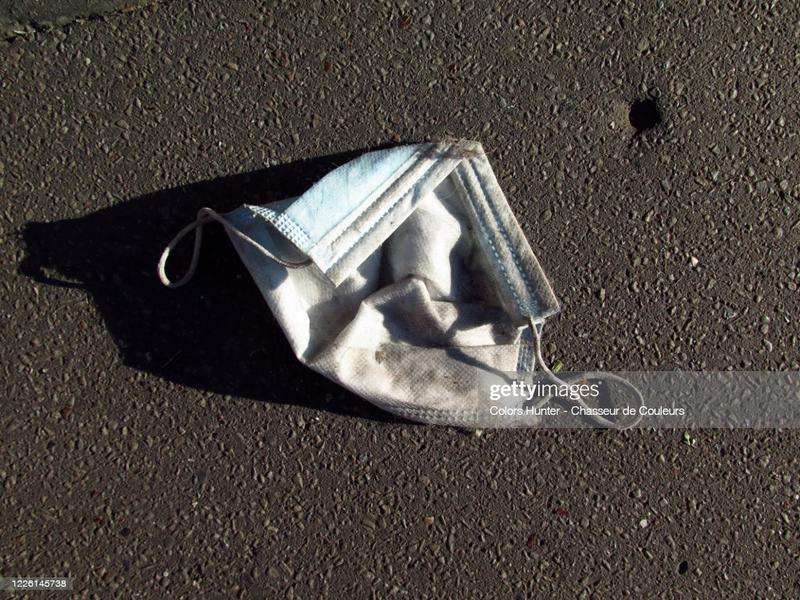mask: (140, 122, 651, 456)
